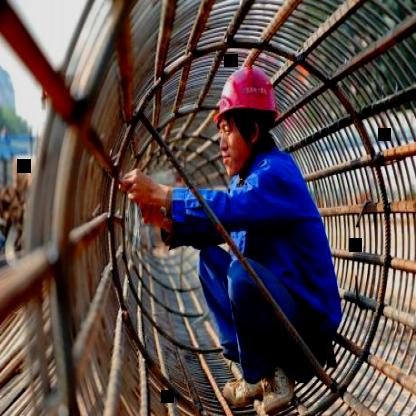helmet: (207, 59, 286, 183)
